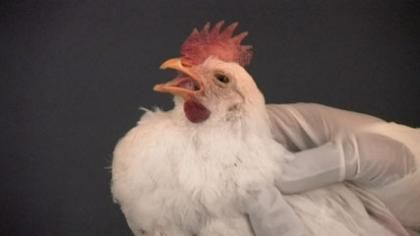AbNormal: (110, 20, 366, 236)
